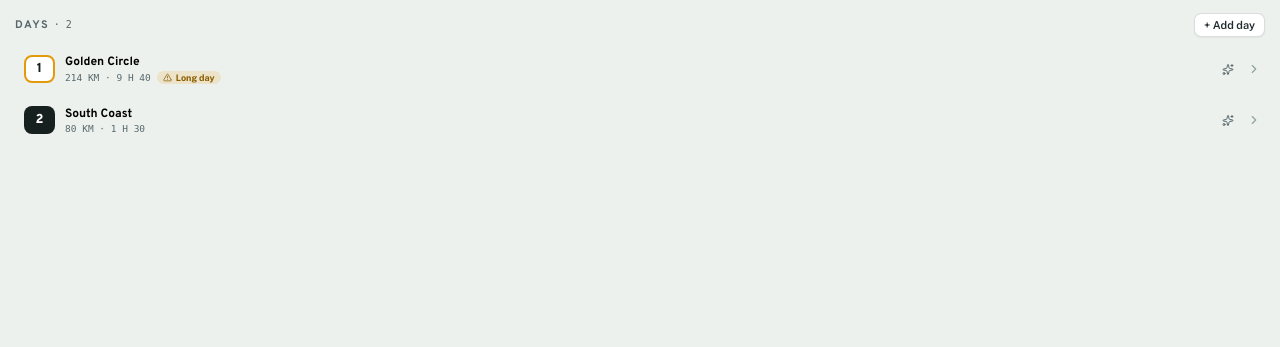
DayRail › expanded day lists attached stops apart from the route, grouped by day groups
Step 1. Click the 1st button named "Toggle stops" → click(1254, 69), box top-left (1240, 47), bottom-right (1268, 91)
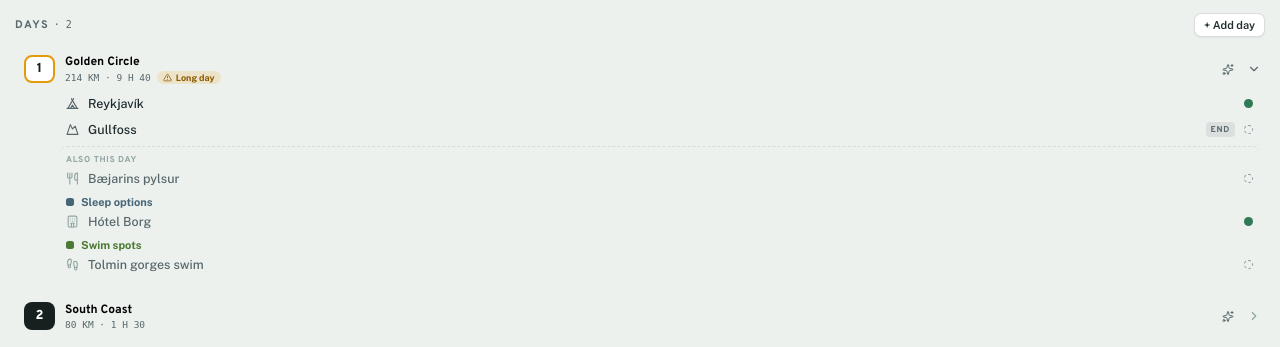
expect the text "ALSO THIS DAY" is shown: met, box top-left (66, 154), bottom-right (137, 165)
expect the text "Hótel Borg" is shown: met, box top-left (88, 214), bottom-right (151, 229)
expect the text "Sleep options" is shown: met, box top-left (81, 196), bottom-right (153, 208)
